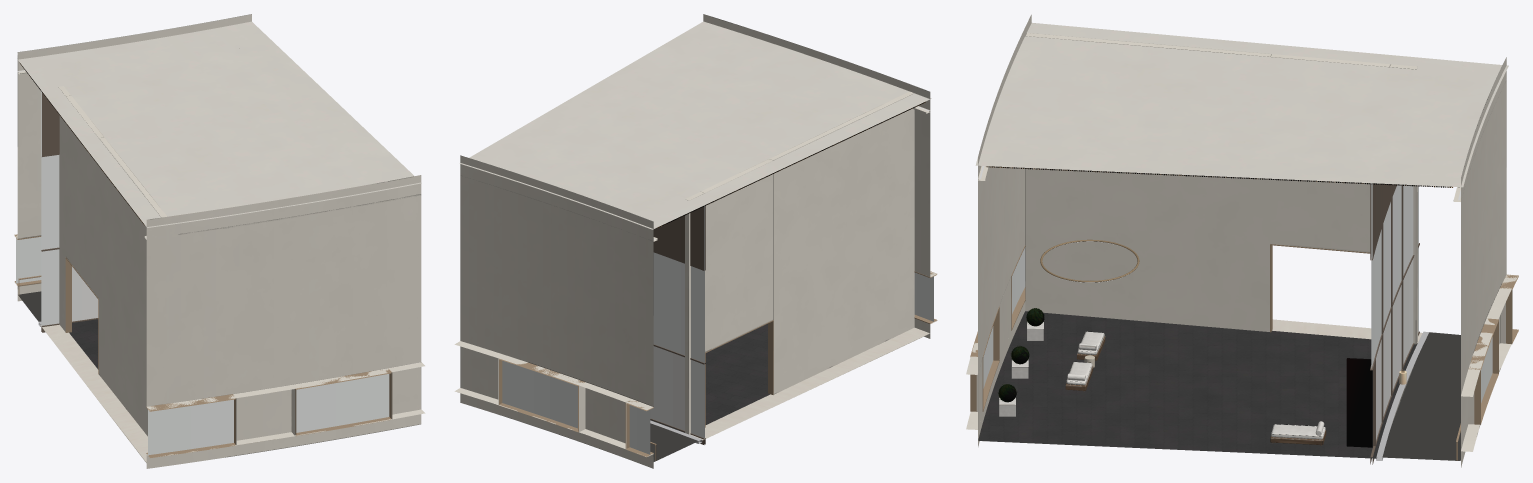
3 views of the same model, side by side, from view 1: azimuth 30°, elevation 25°; view 2: azimuth 150°, elevation 25°; view 3: azimuth 270°, elevation 25° (orthographic). The views are drawn at different scales.
Visible parts, largest first — view 1: c1860; view 2: c1860; view 3: c1860, c1860 leaves.
Boxes of the visible parts, x1,y1,x2,y2 form: c1860: [14, 14, 425, 468]; c1860: [454, 14, 937, 468]; c1860: [966, 14, 1518, 467]; c1860 leaves: [986, 166, 1452, 447].
Size of the model in its own units: 16.21 by 13.21 by 22.78.
Materials: 12 (2 with a texture image).
